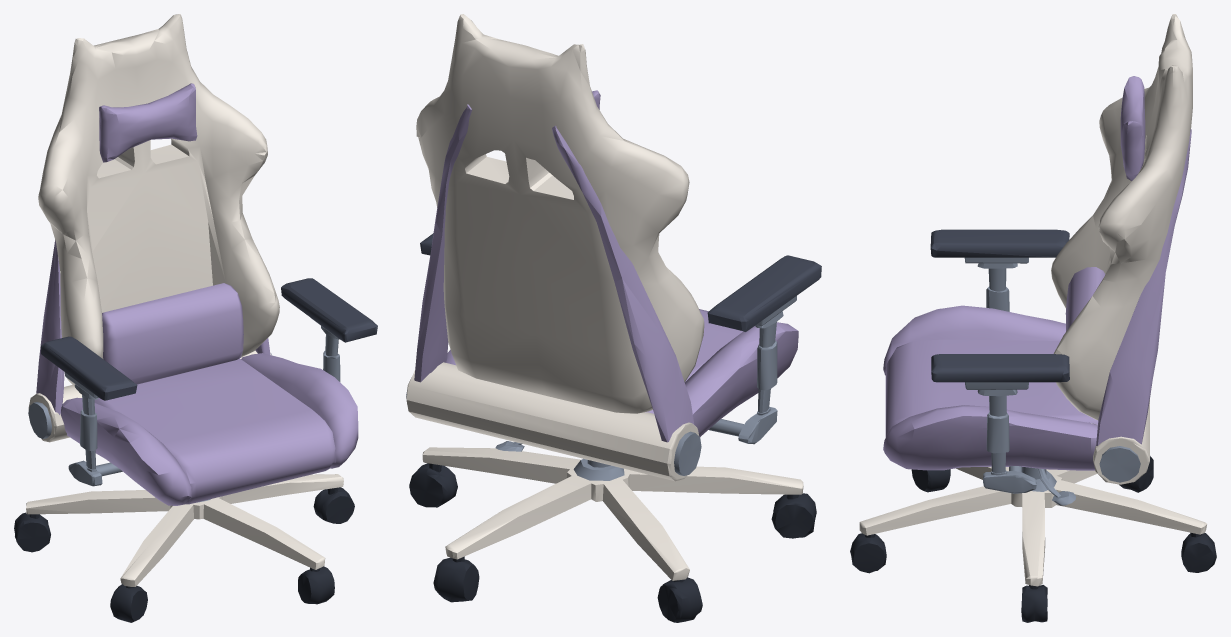
File: gaming_chair.glb
The picture shows the model from 3 angles, left to right: view 1: azimuth 30°, elevation 25°; view 2: azimuth 150°, elevation 25°; view 3: azimuth 270°, elevation 25°; orthographic projection. The views are drawn at different scales.
Size of the model in its own units: 1.25 by 1.94 by 1.28.
